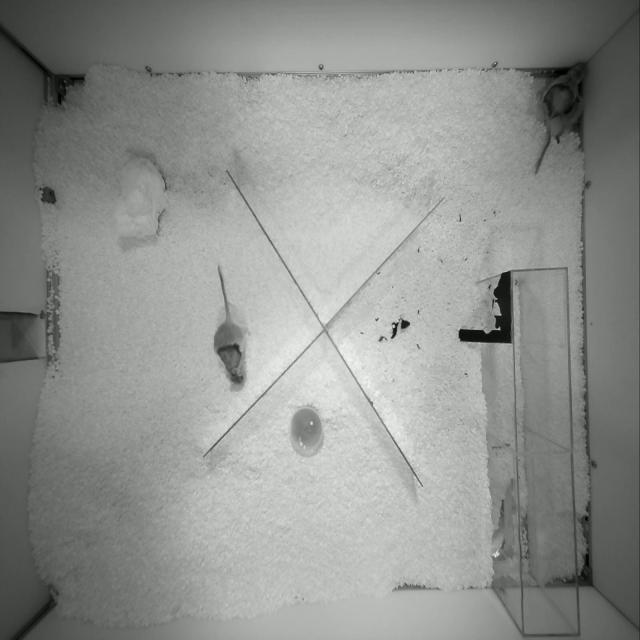adult_front: (214, 265, 247, 383)
